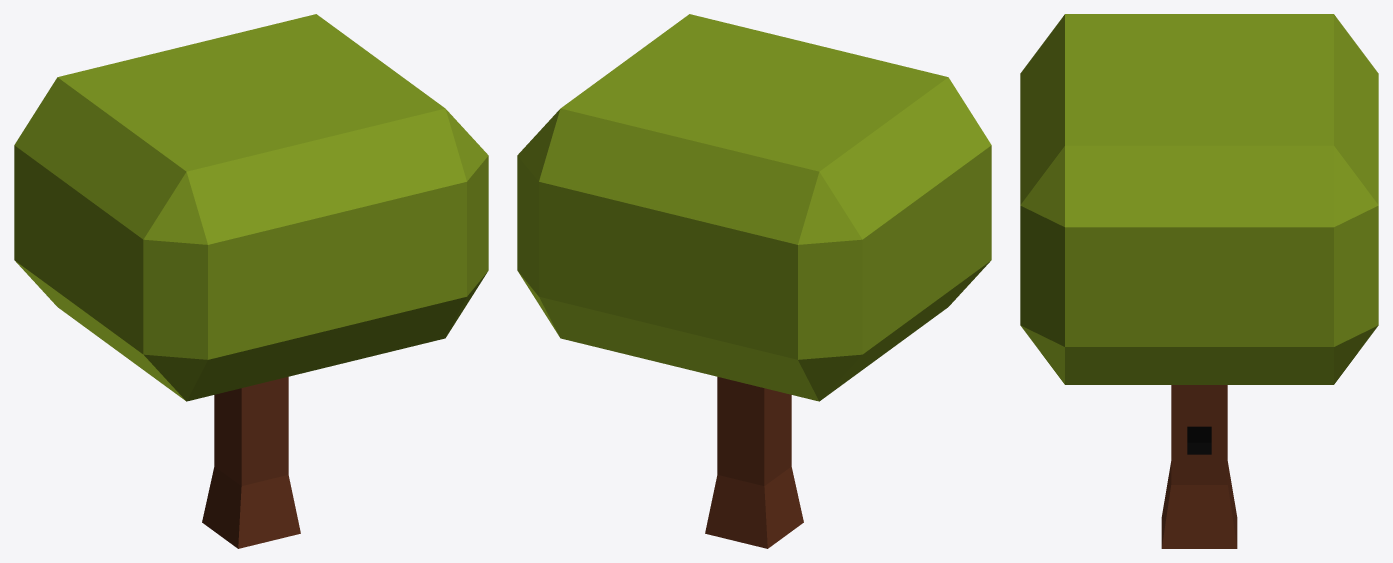
File: tree_4.gltf
The picture shows the model from 3 angles, left to right: view 1: azimuth 30°, elevation 25°; view 2: azimuth 150°, elevation 25°; view 3: azimuth 270°, elevation 25°; orthographic projection. The views are drawn at different scales.
Visible parts, largest first — view 1: rounded_cuboid, cuboid; view 2: rounded_cuboid, cuboid; view 3: rounded_cuboid, cuboid.
Boxes of the visible parts, x1=… form: rounded_cuboid: x1=14, y1=14, x2=488, y2=401; cuboid: x1=202, y1=377, x2=300, y2=548; rounded_cuboid: x1=517, y1=14, x2=991, y2=401; cuboid: x1=705, y1=377, x2=803, y2=548; rounded_cuboid: x1=1020, y1=14, x2=1378, y2=384; cuboid: x1=1161, y1=385, x2=1237, y2=548.
Bounding box in the file's own units: 2.75 × 3.31 × 2.38.
2 materials, 2 textured.
